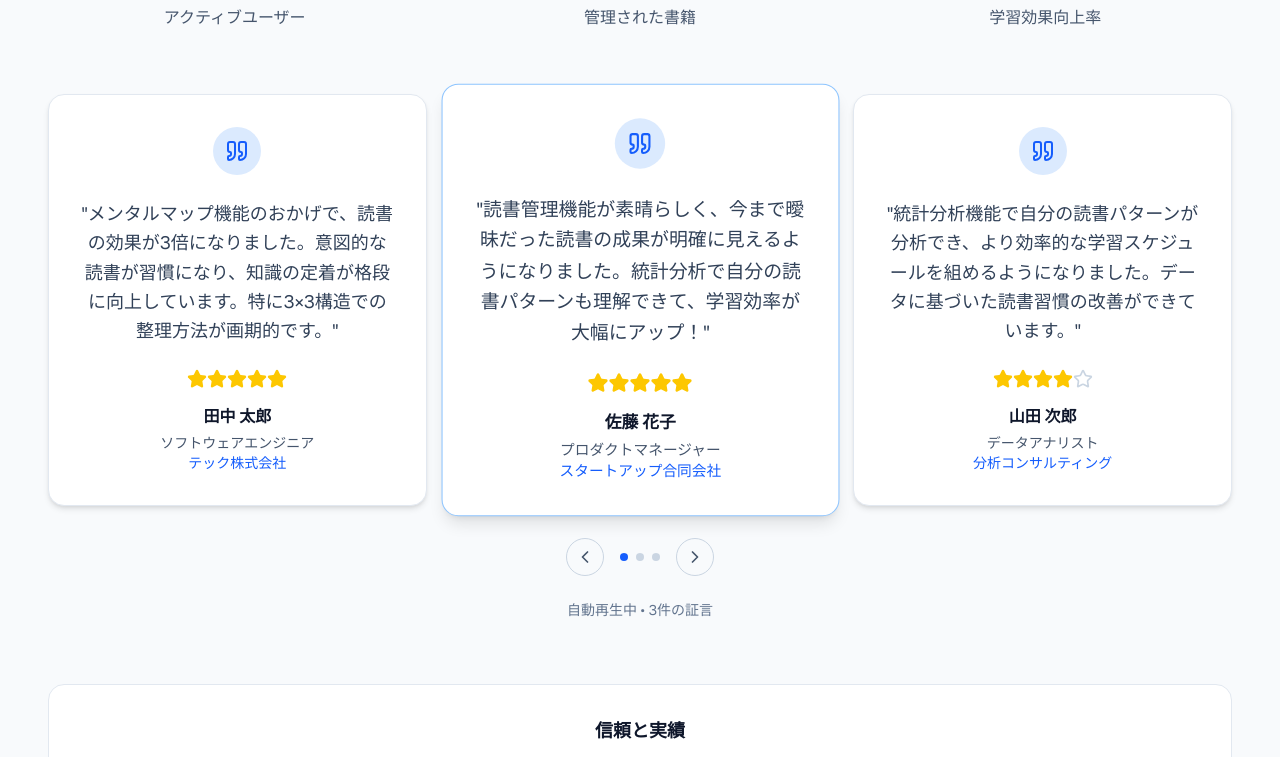
it: SocialProofSection › マウスホバーで自動再生が停止する
(page scrolled)
Hover over the element with test id "testimonials-carousel" at (640, 357), box [48,94,1232,620]
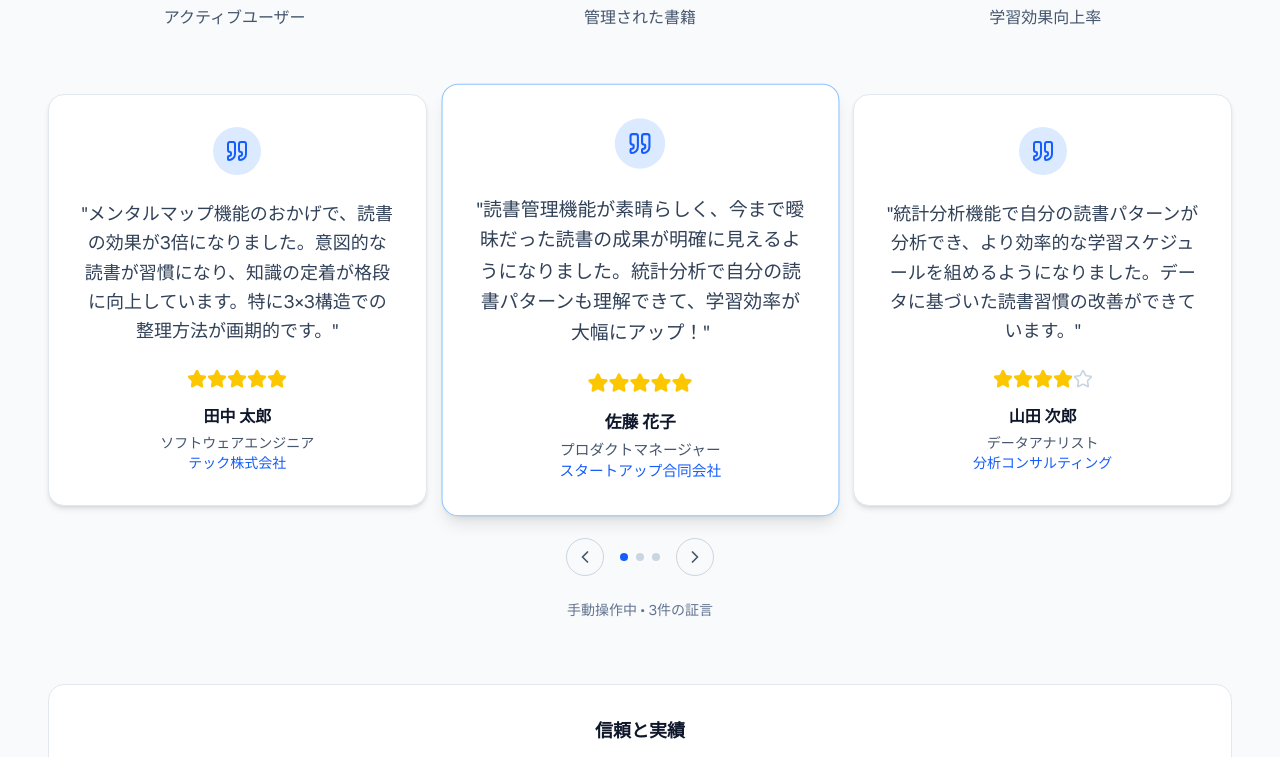
Now the text "手動操作中 • 3件の証言" is shown, box [567,601,713,619]
Move the pointer off the element with test id "testimonials-carousel"
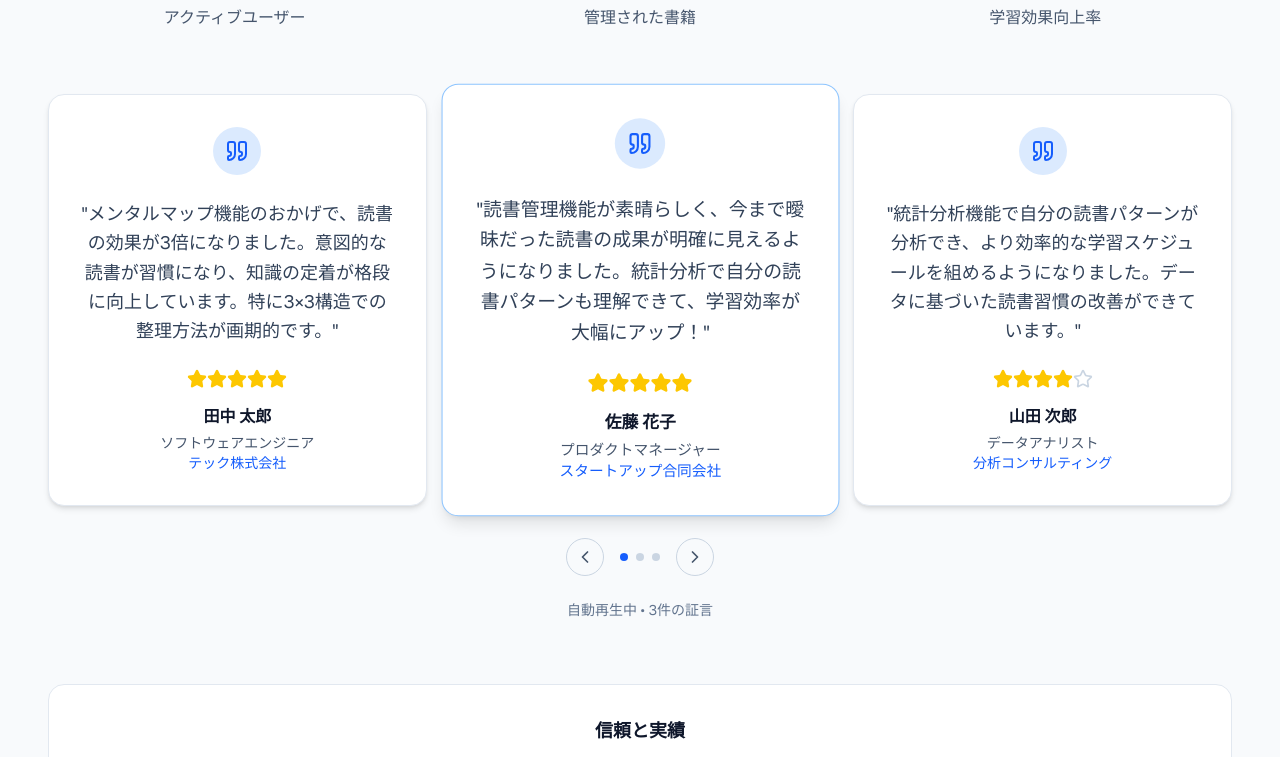
Now the text "自動再生中 • 3件の証言" is shown, box [567,601,713,619]
